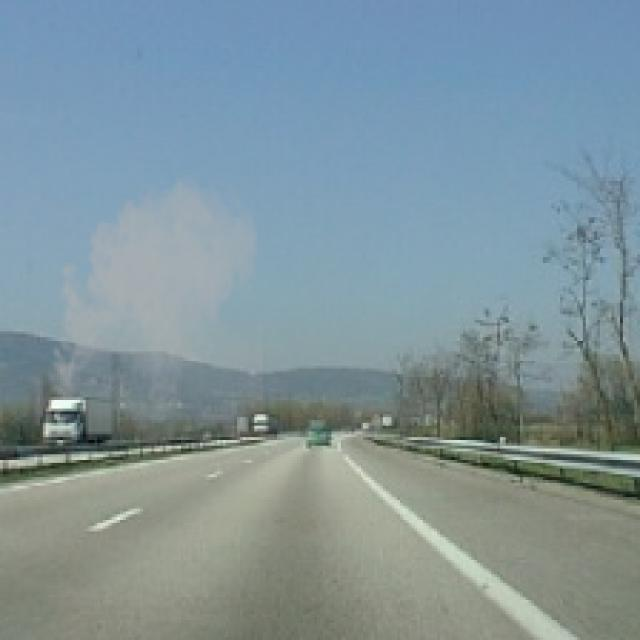smoke: (46, 166, 266, 420)
